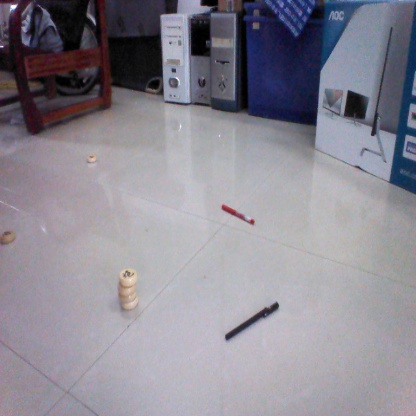chess: (116, 269, 138, 312), (1, 227, 22, 245), (84, 154, 98, 166)
pen: (225, 299, 279, 341), (218, 203, 259, 224)
